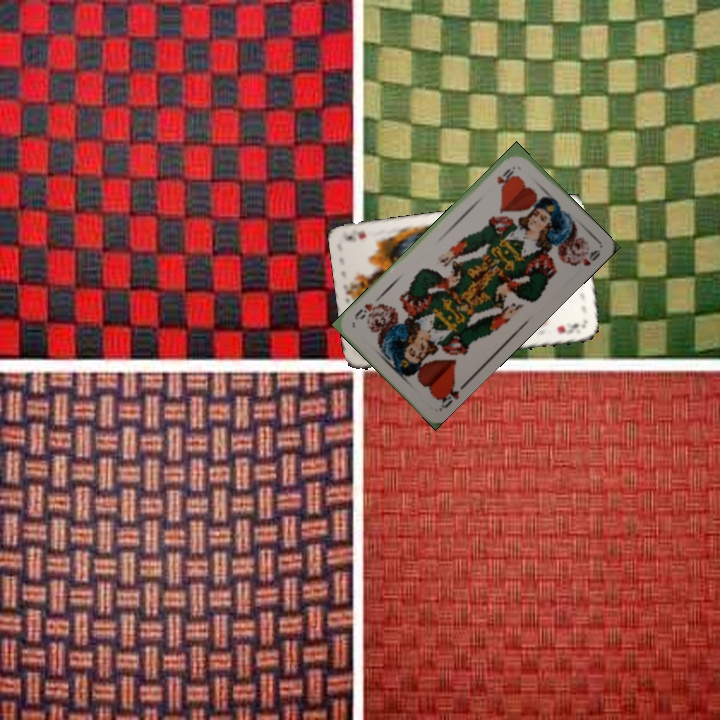HO: (433, 378, 462, 412), (492, 162, 518, 187)
